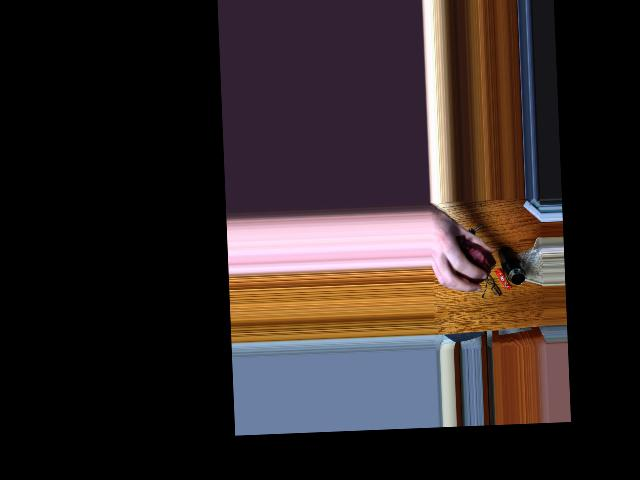onion: (456, 238, 491, 282)
